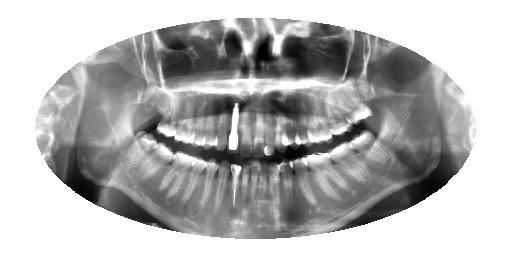i10loss: (229, 162, 242, 210)
i11decay: (217, 161, 232, 206)
i12healthy: (200, 158, 219, 206)
i13healthy: (182, 157, 207, 202)
i14healthy: (161, 151, 191, 196)
i15healthy: (143, 144, 175, 177)
i16healthy: (126, 130, 154, 172)
i1healthy: (349, 131, 392, 165)
i2healthy: (330, 142, 371, 182)
i3chipped: (307, 148, 342, 205)
i4decay: (295, 156, 309, 207)
i5decay: (280, 159, 294, 211)
i6decay: (271, 161, 281, 215)
i7decay: (258, 159, 271, 201)
i8decay: (249, 160, 260, 211)
i9decay: (240, 161, 253, 210)
u10loss: (228, 101, 243, 153)
u11decay: (217, 112, 229, 153)
u12healthy: (205, 104, 219, 147)
u13healthy: (194, 102, 207, 147)
u14healthy: (177, 104, 196, 145)
u15healthy: (157, 102, 177, 139)
u16loss: (135, 101, 160, 132)
u1healthy: (348, 89, 373, 126)
u2healthy: (330, 97, 350, 137)
u3healthy: (308, 101, 332, 143)
u4decay: (295, 105, 308, 147)
u5decay: (282, 106, 295, 149)
u6decay: (276, 112, 287, 153)
u7decay: (262, 112, 276, 156)
u8decay: (251, 109, 265, 157)
u9decay: (239, 110, 252, 159)
